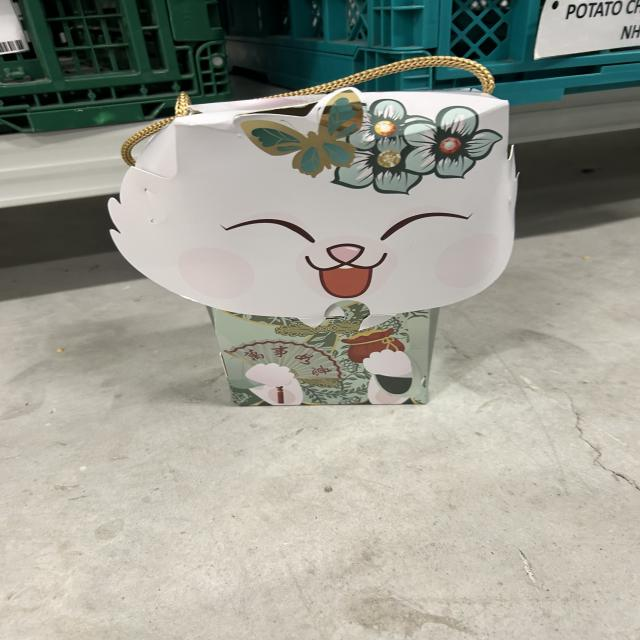object_name: (142, 97, 518, 415)
